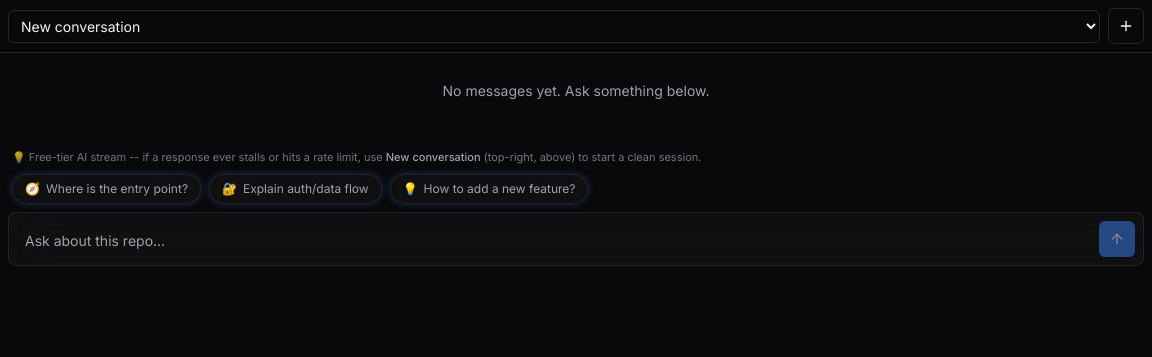
it: ChatPanel stop generating › swaps the send button for a Stop button while streaming, and stopping keeps the partial answer without an error banner
Type "hi" into the text box with placeholder "Ask about this repo..." at {"x": 554, "y": 240}, box left=17, top=224, right=1091, bottom=256
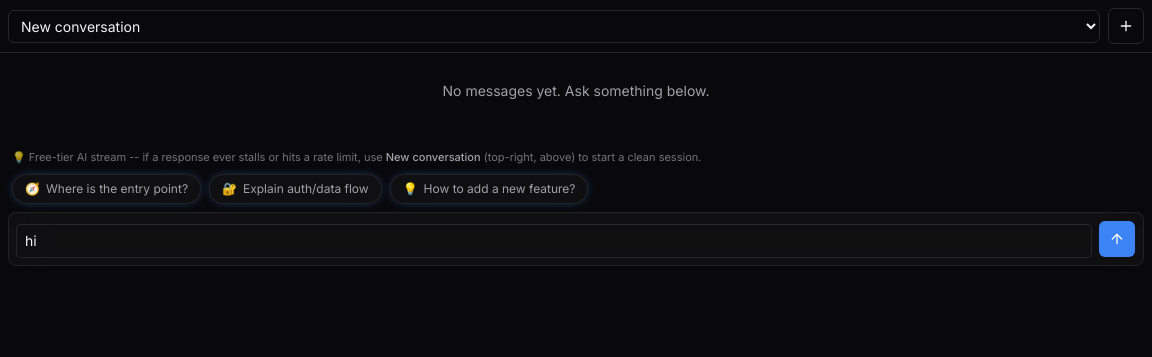
Click the button named "Send message" at {"x": 1117, "y": 238}, box left=1099, top=220, right=1135, bottom=256
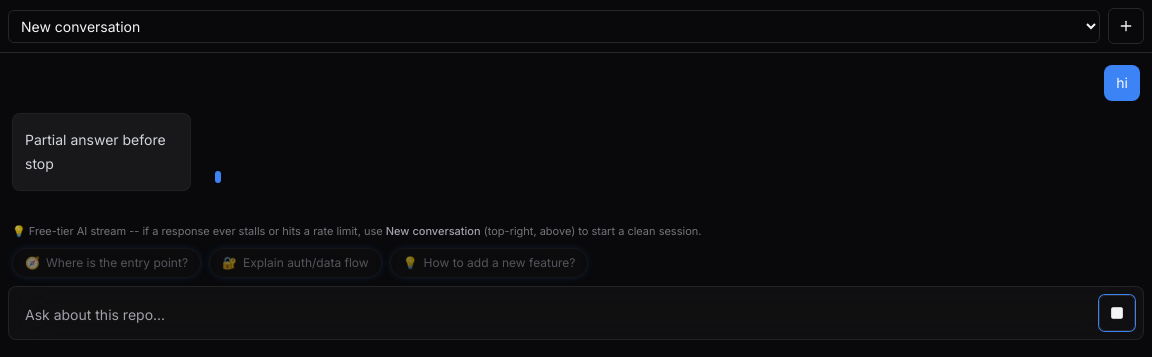
Click the button named "Stop generating" at {"x": 1117, "y": 312}, box left=1099, top=294, right=1135, bottom=330
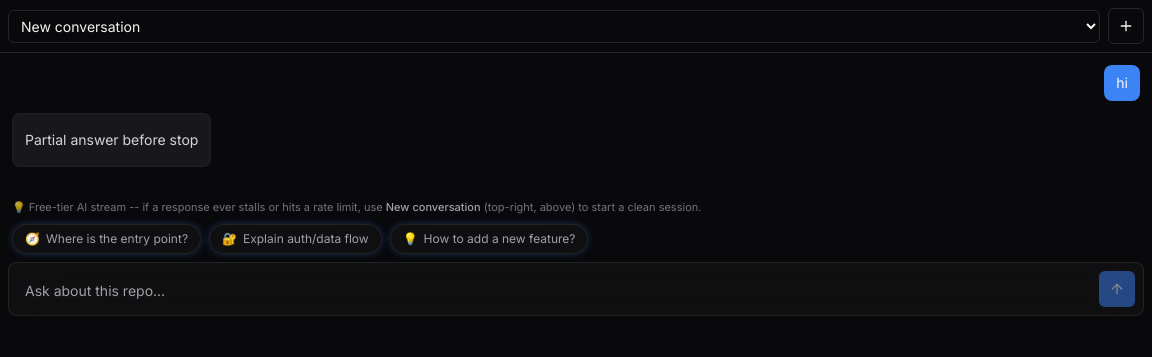
Expected: the text "Partial answer before stop" is shown, left=25, top=128, right=198, bottom=152
Expected: the element with test id "streaming-cursor" is gone
Expected: the button named "Send message" is shown, left=1099, top=270, right=1135, bottom=306
